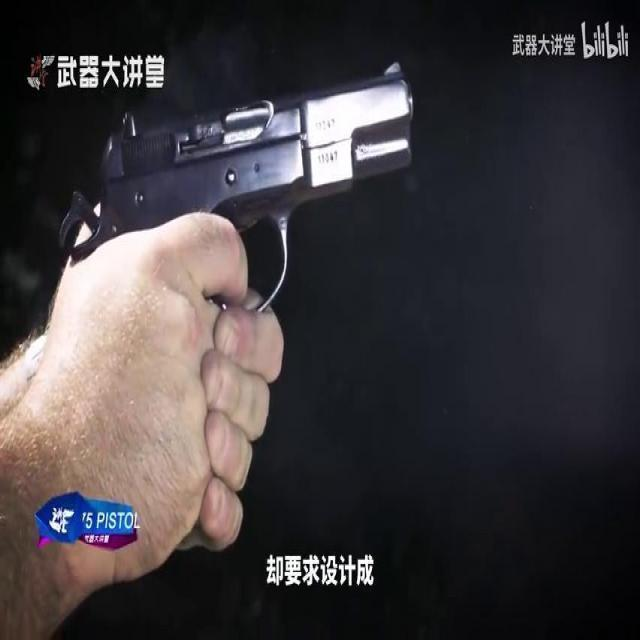Handgun: (44, 52, 423, 567)
